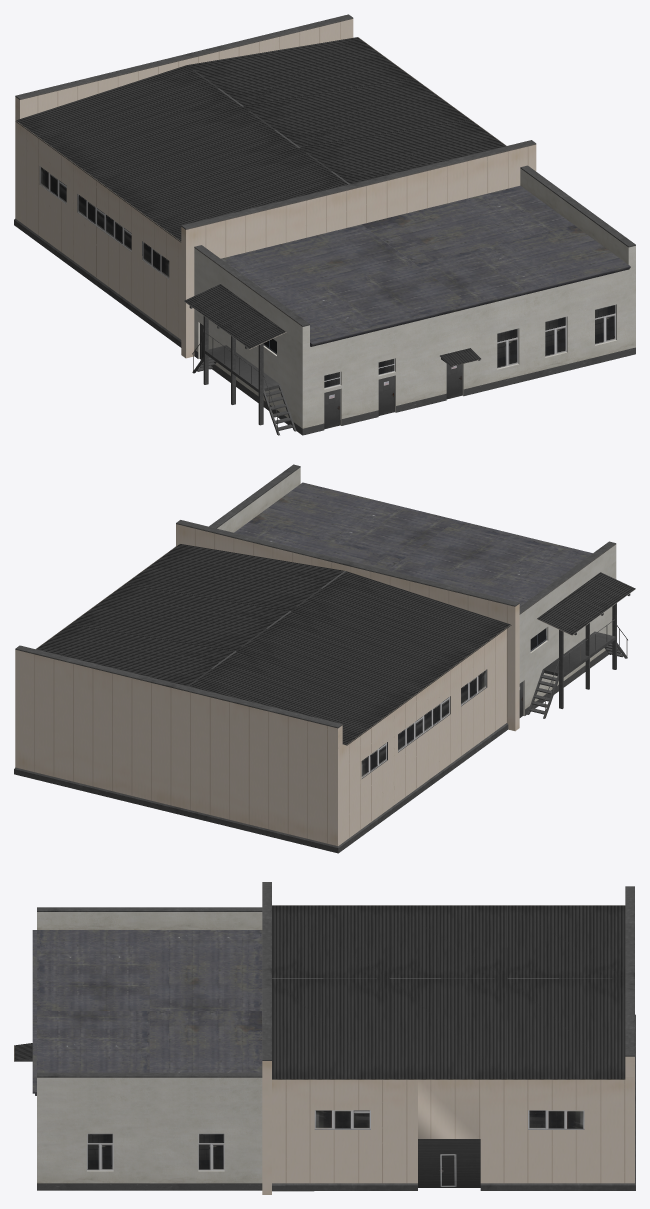
Rendered from plant-building21.glb.
3 renders of one model, top to bottom at view 1: azimuth 30°, elevation 25°; view 2: azimuth 150°, elevation 25°; view 3: azimuth 270°, elevation 25°, orthographic. The views are drawn at different scales.
Parts seen in each view (by area): view 1: Object8935127; view 2: Object8935127; view 3: Object8935127.
Part boxes in pixels (bbox=[...]): Object8935127: bbox=[14, 14, 635, 435]; Object8935127: bbox=[14, 464, 635, 853]; Object8935127: bbox=[14, 882, 635, 1194].
Bounding box in the file's own units: 22.69 × 7.42 × 31.03.
Materials: 1 (1 with a texture image).
